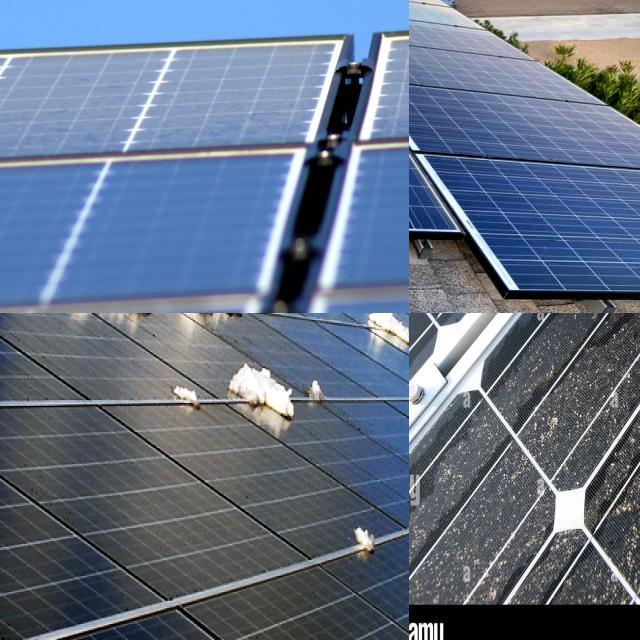dust: (156, 34, 342, 138), (409, 445, 517, 598), (535, 313, 622, 472), (413, 26, 580, 108), (499, 197, 640, 289), (0, 53, 139, 144), (518, 111, 640, 167), (0, 60, 60, 159), (375, 31, 409, 132)
panel: (226, 342, 295, 432), (9, 313, 96, 366), (57, 313, 152, 360), (140, 313, 246, 352), (304, 336, 342, 418), (244, 313, 333, 348), (344, 518, 394, 578), (161, 366, 210, 416), (325, 313, 409, 342), (165, 313, 255, 340), (0, 313, 49, 358), (0, 313, 58, 348), (372, 313, 409, 356)
